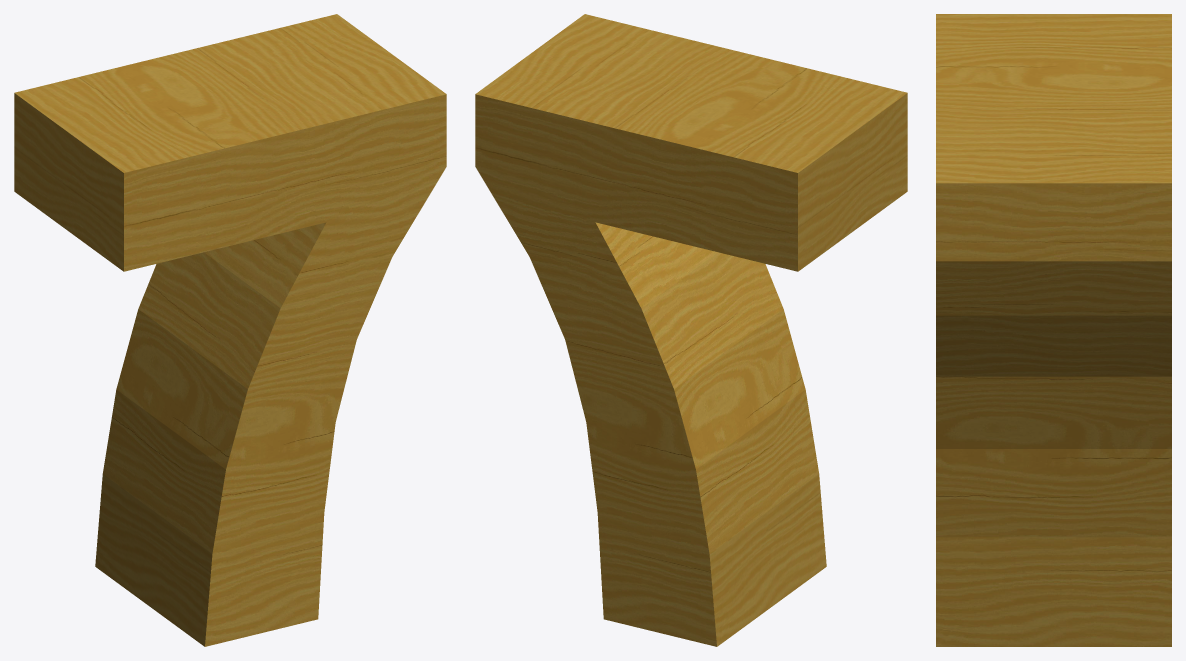
The model's file is MounTripElement_7.glb.
3 views of the same model, side by side, from view 1: azimuth 30°, elevation 25°; view 2: azimuth 150°, elevation 25°; view 3: azimuth 270°, elevation 25° (orthographic). The views are drawn at different scales.
Parts seen in each view (by area): view 1: 3D 7 - 7; view 2: 3D 7 - 7; view 3: 3D 7 - 7.
Boxes of the visible parts, x1,y1,x2,y2 form: 3D 7 - 7: [14, 14, 446, 646]; 3D 7 - 7: [475, 14, 907, 646]; 3D 7 - 7: [936, 14, 1171, 646].
Size of the model in its own units: 0.0255 by 0.0372 by 0.015.
Materials: 1 (1 with a texture image).
